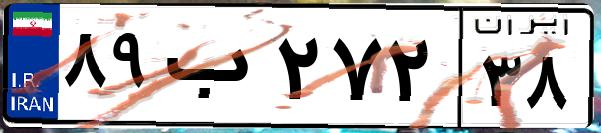2: (270, 28, 330, 110), (385, 28, 445, 110)
3: (475, 38, 525, 113)
7: (330, 28, 385, 110)
8: (57, 26, 110, 100), (525, 38, 570, 115)
9: (110, 28, 158, 98)
ب: (158, 20, 270, 120)
